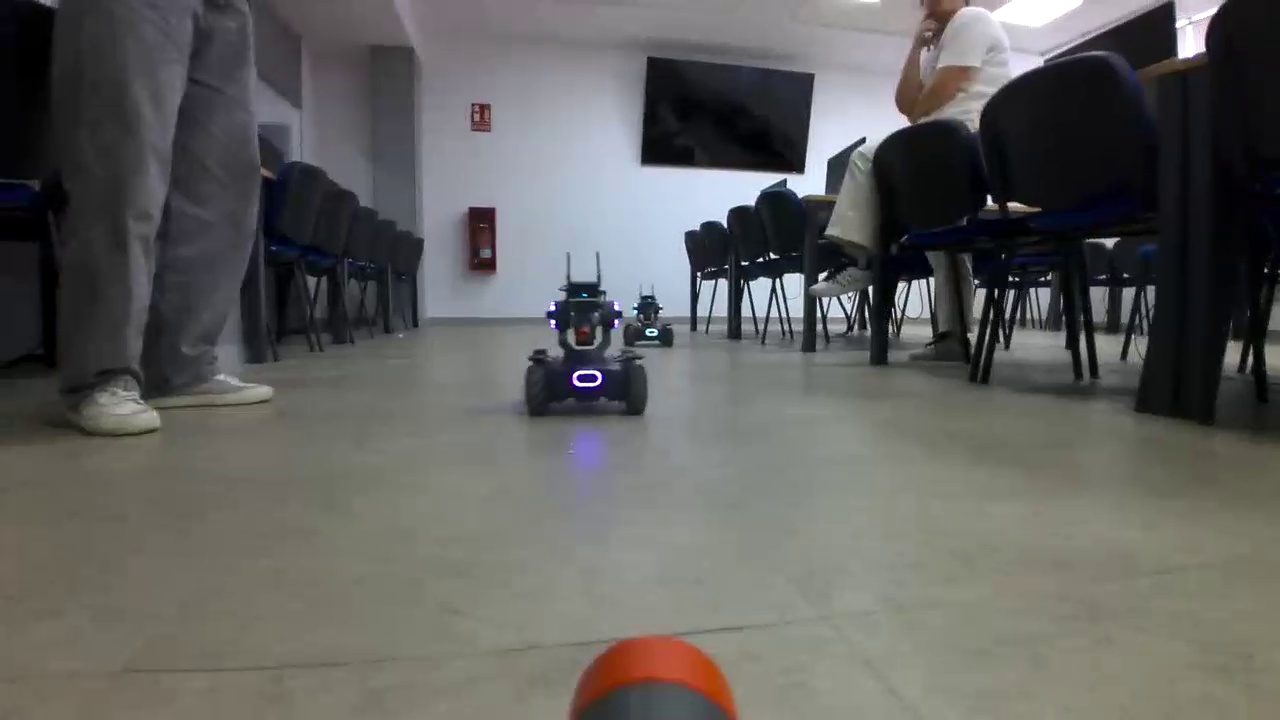robot: (525, 279, 652, 415), (622, 290, 675, 345)
